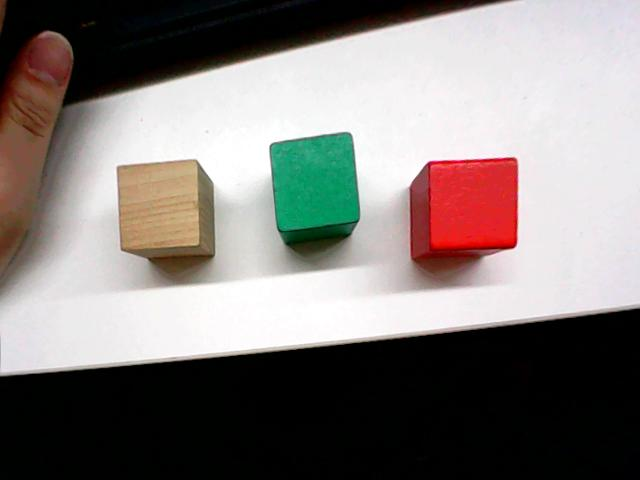green_box: (266, 128, 363, 247)
raw_box: (113, 155, 218, 261)
red_box: (406, 152, 522, 262)
